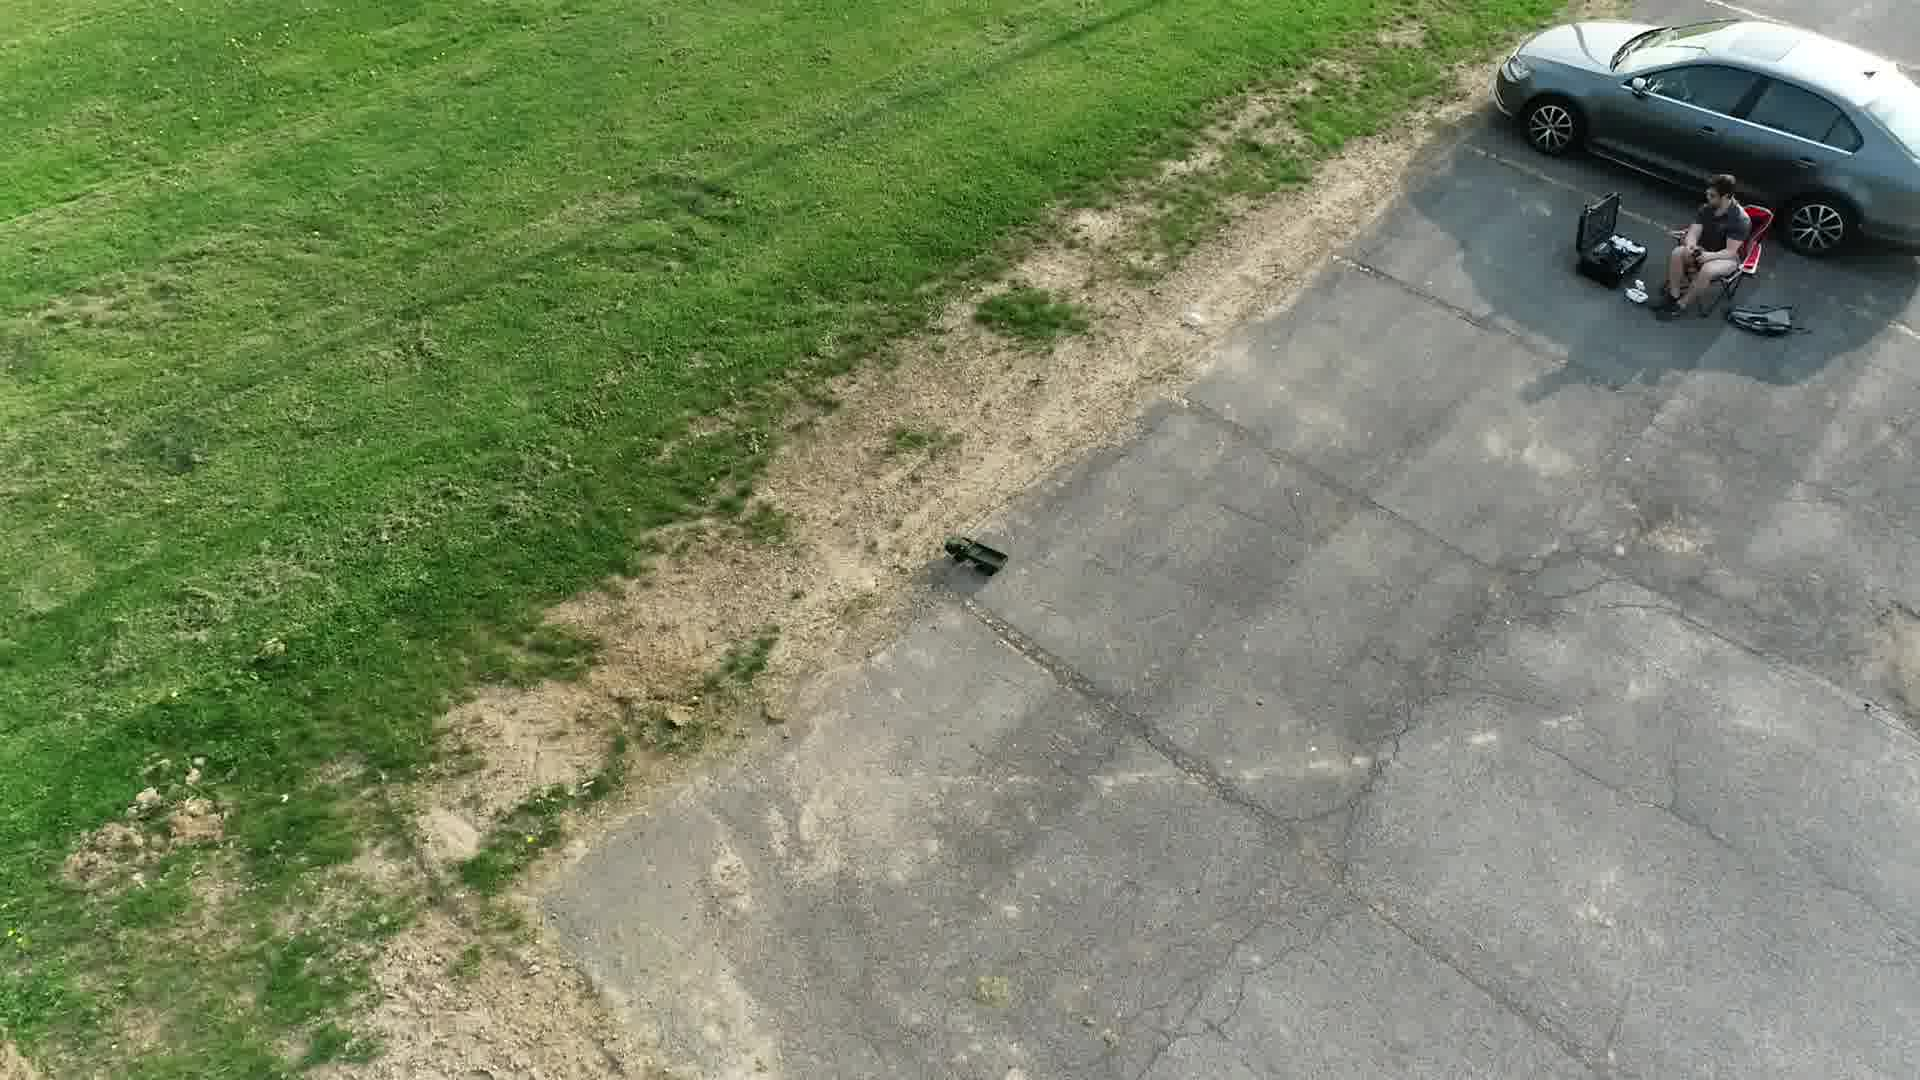transporter9: (942, 535, 1010, 576)
